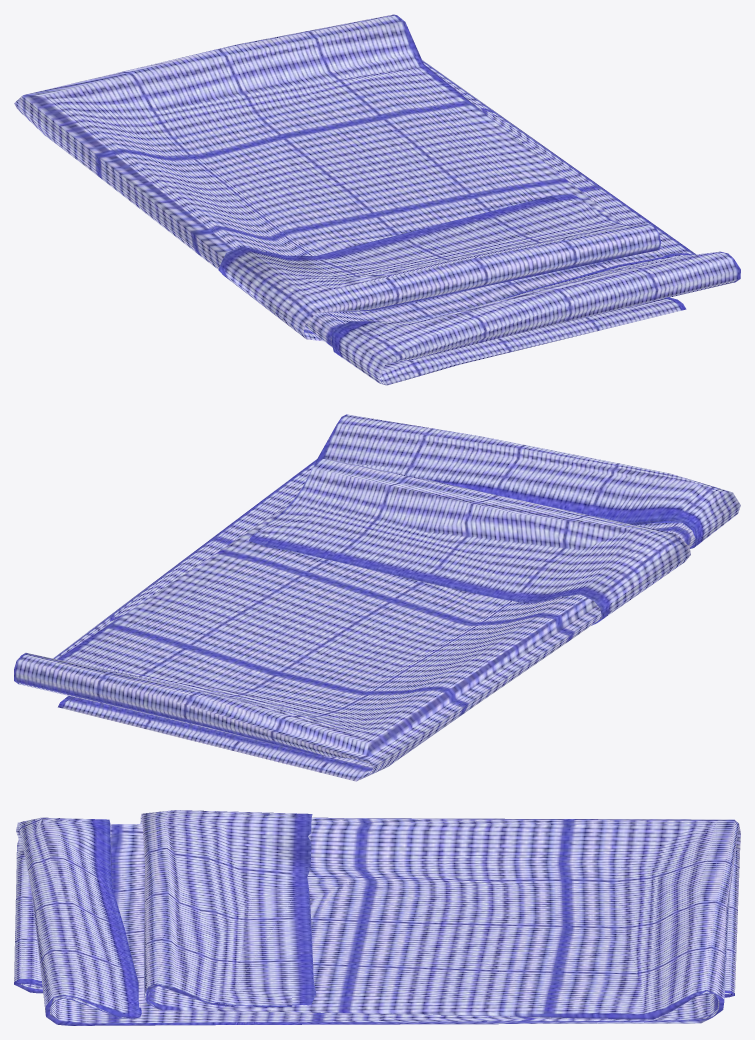
File: prop_towel.glb
The picture shows the model from 3 angles, top to bottom: view 1: azimuth 30°, elevation 25°; view 2: azimuth 150°, elevation 25°; view 3: azimuth 270°, elevation 25°; orthographic projection.
Parts seen in each view (by area): view 1: Tower_Material.001_0; view 2: Tower_Material.001_0; view 3: Tower_Material.001_0.
Boxes of the visible parts, left/top/right/bottom form: Tower_Material.001_0: left=14, top=14, right=740, bottom=385; Tower_Material.001_0: left=14, top=414, right=740, bottom=781; Tower_Material.001_0: left=14, top=810, right=740, bottom=1025.
Size of the model in its own units: 539 by 53.55 by 879.
1 material, 1 textured.
